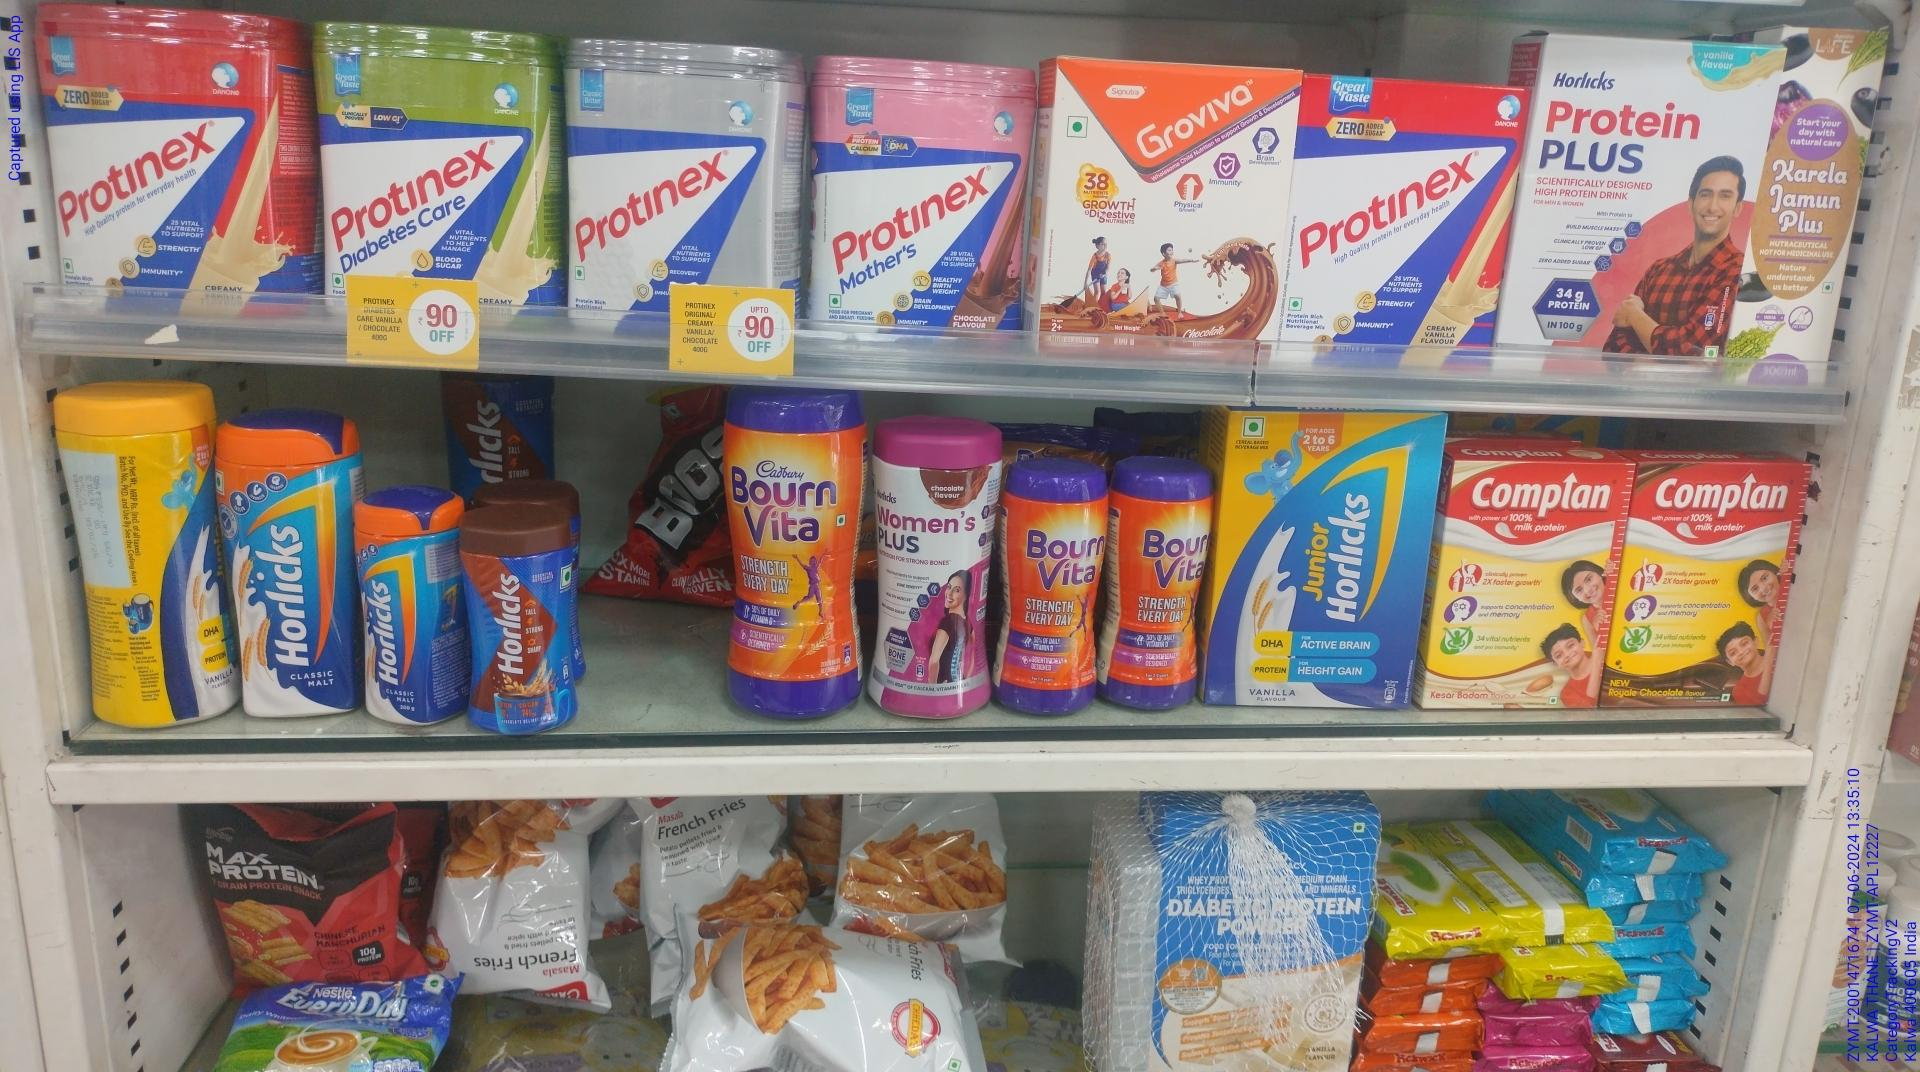BOURN_VITA_200_G_JAR: (1005, 467, 1104, 717), (1124, 473, 1204, 717)
BOURN_VITA_500_G_JAR: (724, 393, 862, 716)
COMPLAN_CHOCOLATE_200_GMS_PACK: (1627, 462, 1792, 701)
COMPLAN_KESAR_BADAM_200_GMS_PACK: (1445, 458, 1623, 730)
HORLICK_CHOCOLATE_200_G_JAR: (459, 526, 567, 742)
HORLICK_CLASSIC_MALT_200_G_JAR: (360, 504, 443, 730)
HORLICK_CLASSIC_MALT_500_G_JAR: (218, 407, 351, 720)
PROTINEX_CHOCOLATE_400_G_JAR: (28, 0, 311, 330)
PROTINEX_ORIGINAL_400_G_JAR: (560, 33, 773, 345)
